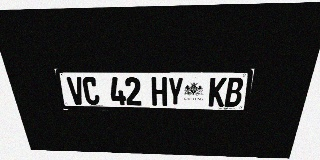2: (124, 77, 141, 105)
4: (109, 77, 126, 105)
B: (224, 77, 244, 107)
C: (82, 77, 100, 105)
H: (151, 77, 167, 106)
K: (208, 77, 227, 107)
V: (66, 77, 86, 105)
Y: (168, 77, 184, 106)
